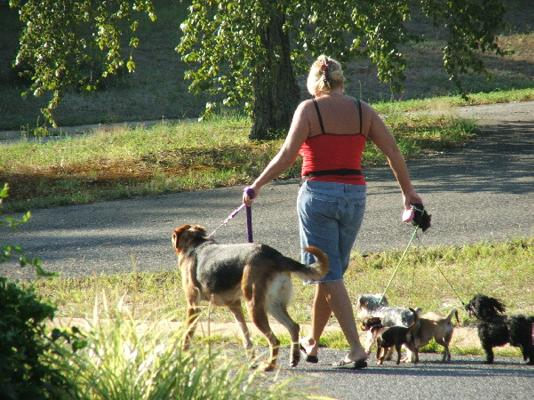person: (244, 55, 425, 368)
